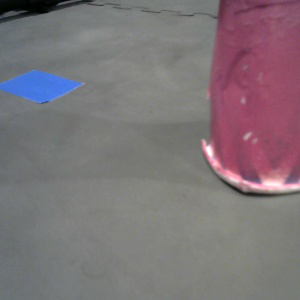Right: (207, 1, 300, 195)
